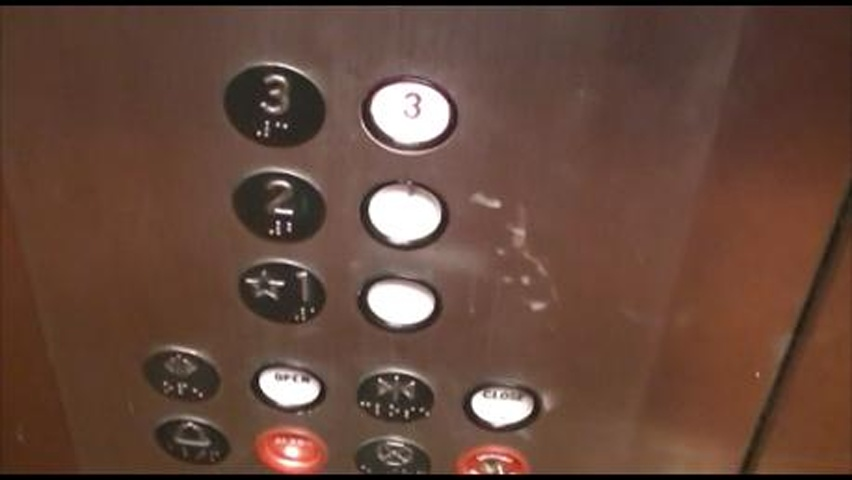2: (229, 164, 326, 245)
3: (224, 61, 327, 149), (357, 70, 459, 157)
alarm: (148, 414, 231, 468)
blur: (252, 424, 329, 477)
close: (354, 368, 436, 424)
empty: (358, 177, 449, 250), (357, 268, 441, 333)
open: (141, 344, 225, 406)
s1: (237, 256, 328, 325)
stop: (352, 435, 433, 480)
text_close: (462, 376, 544, 432)
text_open: (248, 357, 326, 413)
